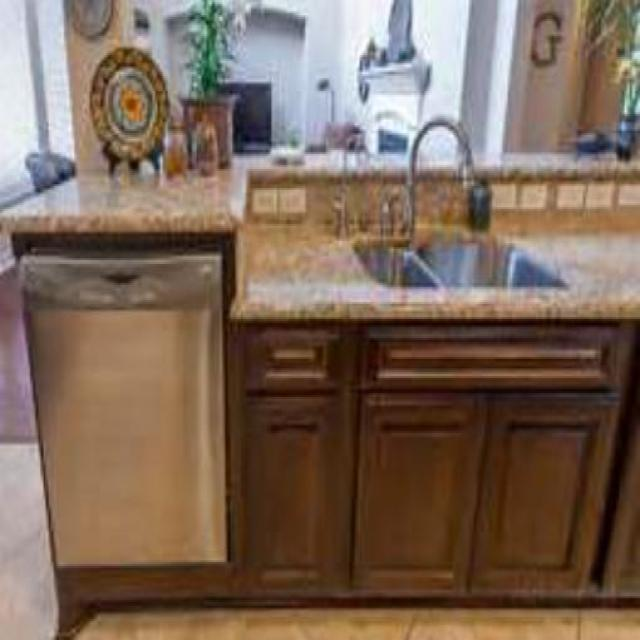dishwasher: (16, 232, 227, 570)
